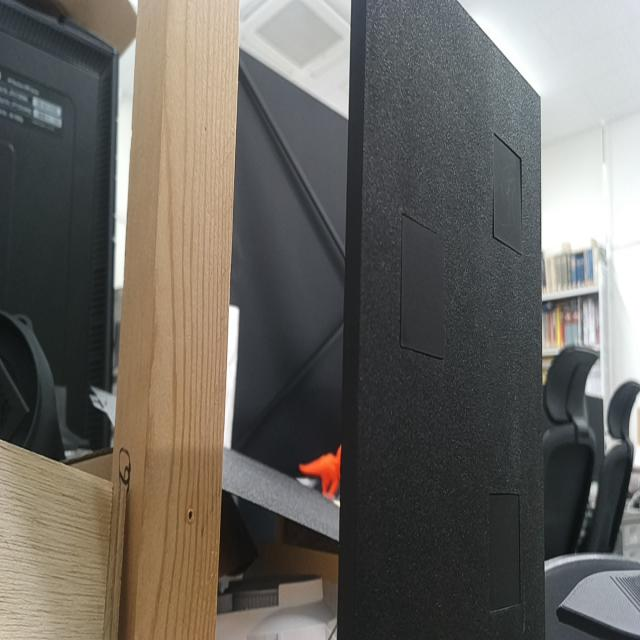Wall: (357, 0, 545, 639)
